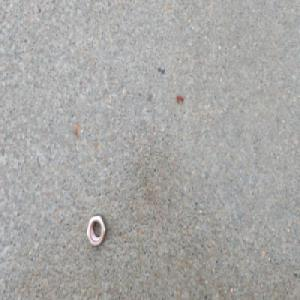Nut: (86, 215, 106, 247)
